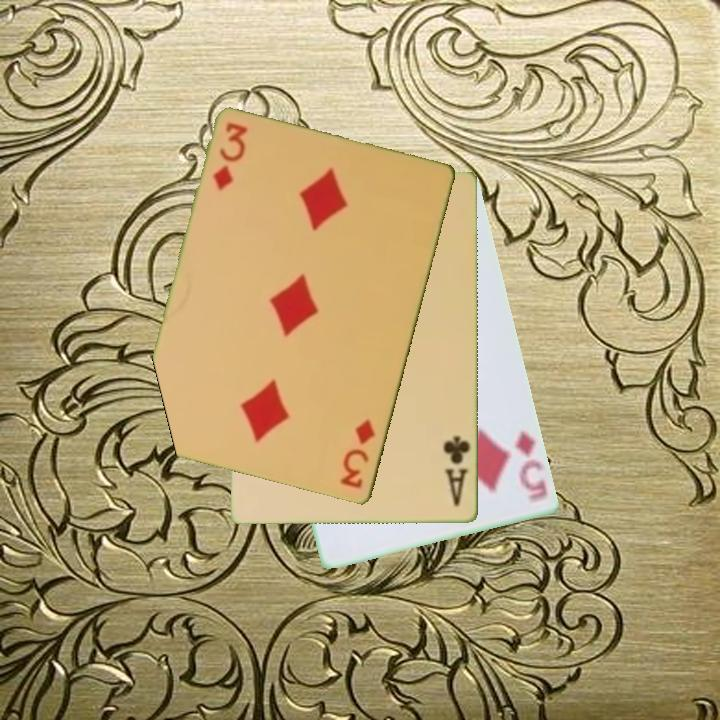3d: (209, 119, 251, 194), (337, 416, 378, 492)
5d: (512, 427, 551, 506)
Ac: (440, 433, 473, 510)
